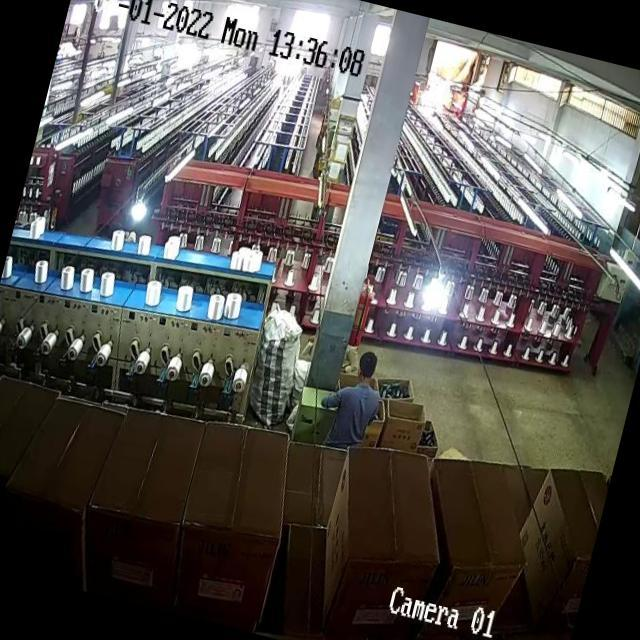person: (332, 344, 384, 435)
